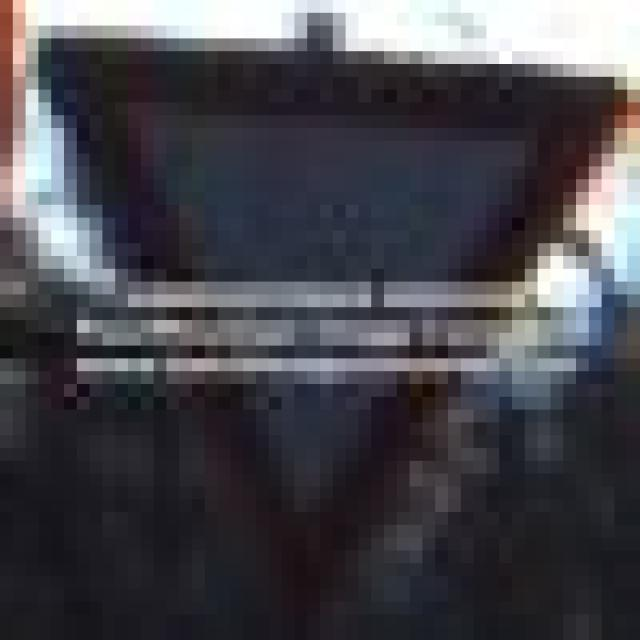gap_in_median: (26, 12, 627, 538)
